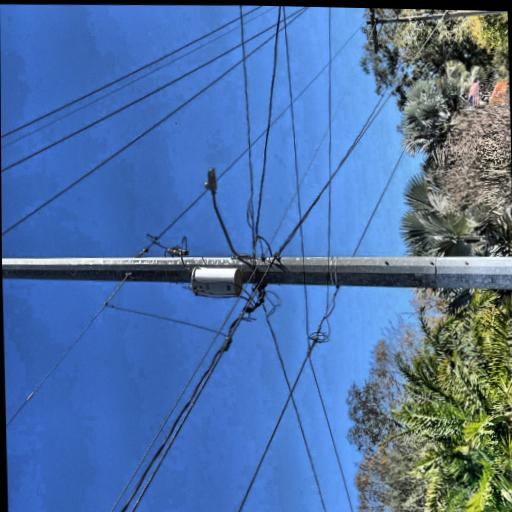pole: (88, 4, 140, 512)
street light: (126, 336, 211, 388)
transformer: (90, 318, 120, 377)
